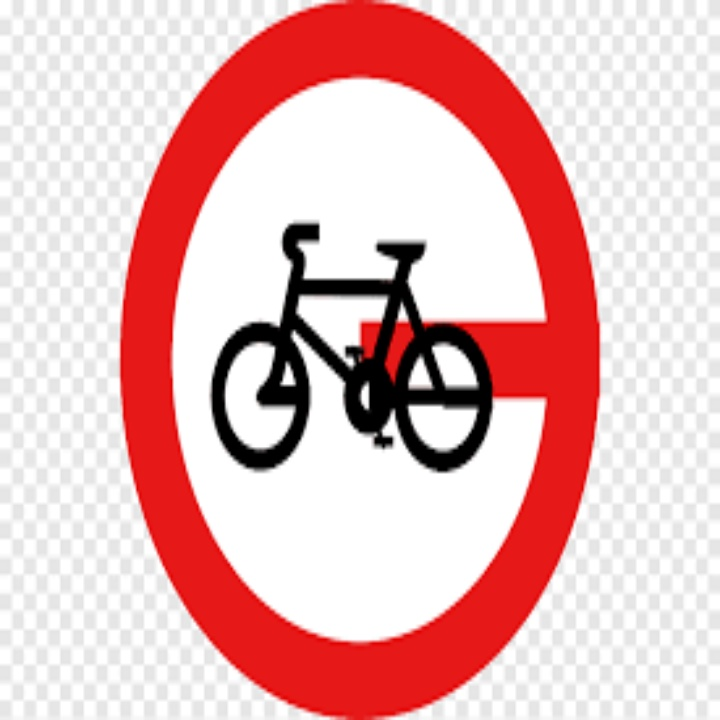bicycle: (213, 215, 491, 493)
